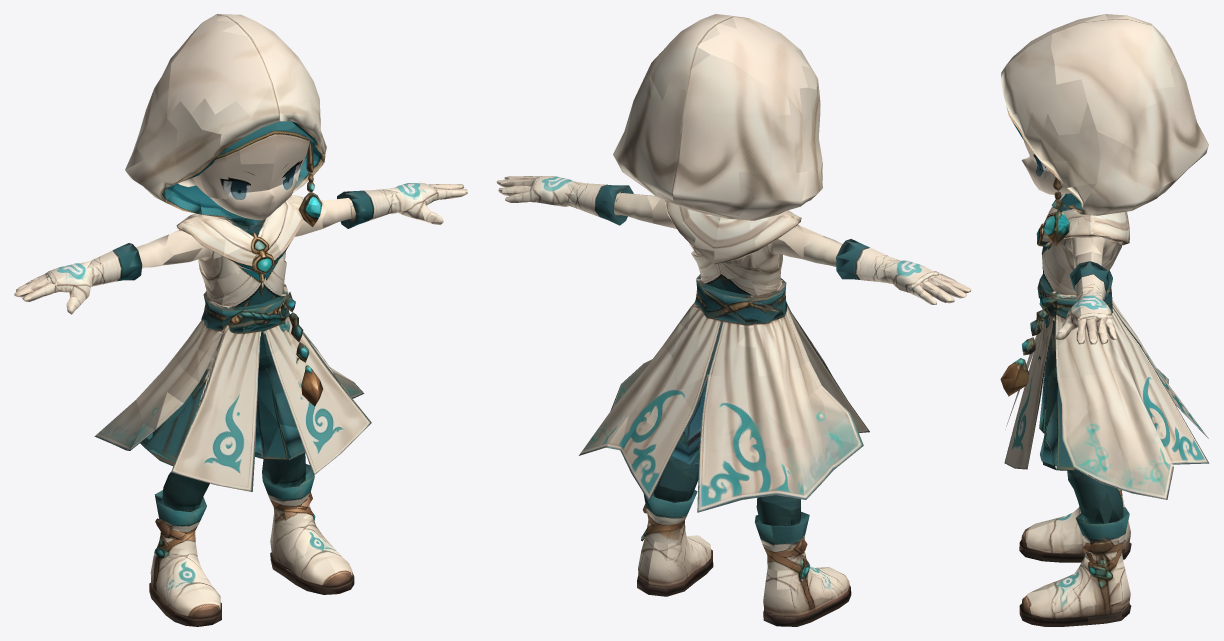
The model's file is wisp_meshy.glb.
The picture shows the model from 3 angles, left to right: view 1: azimuth 30°, elevation 25°; view 2: azimuth 150°, elevation 25°; view 3: azimuth 270°, elevation 25°; orthographic projection. The views are drawn at different scales.
Bounding box in the file's own units: 1.7 × 2 × 0.6698.
Materials: 1 (1 with a texture image).
